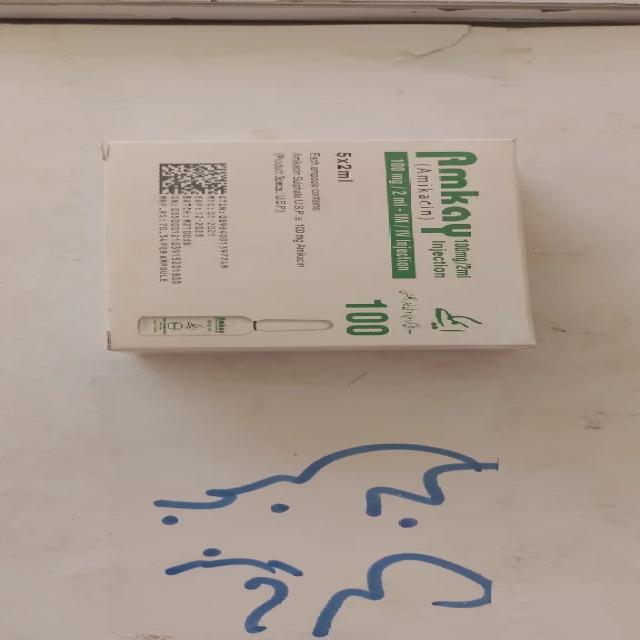drug-name: (408, 142, 481, 240)
